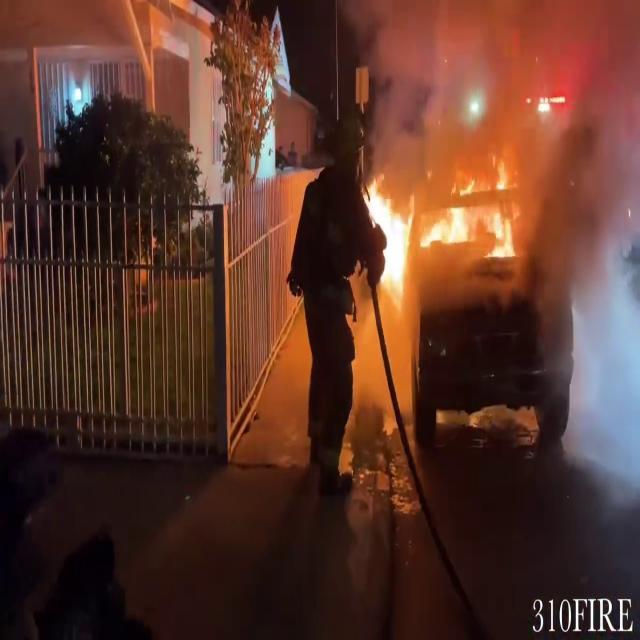Fire: (427, 173, 521, 263), (364, 170, 412, 300)
Smoke: (367, 0, 640, 351)
